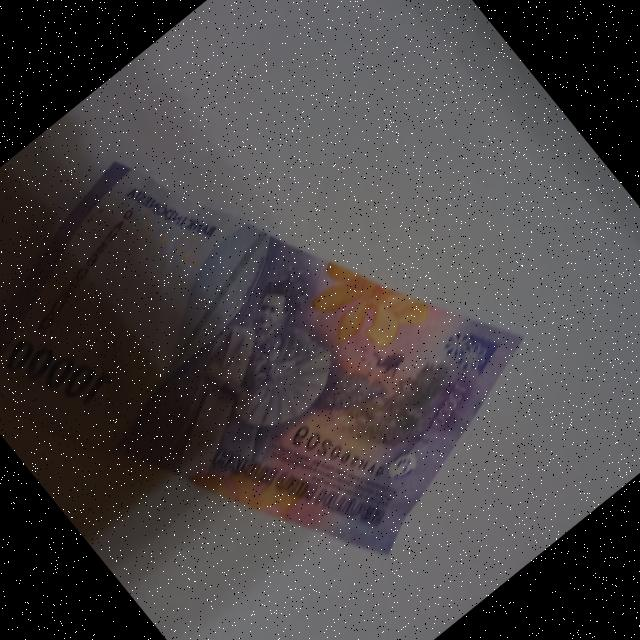10K: (0, 15, 589, 640)
